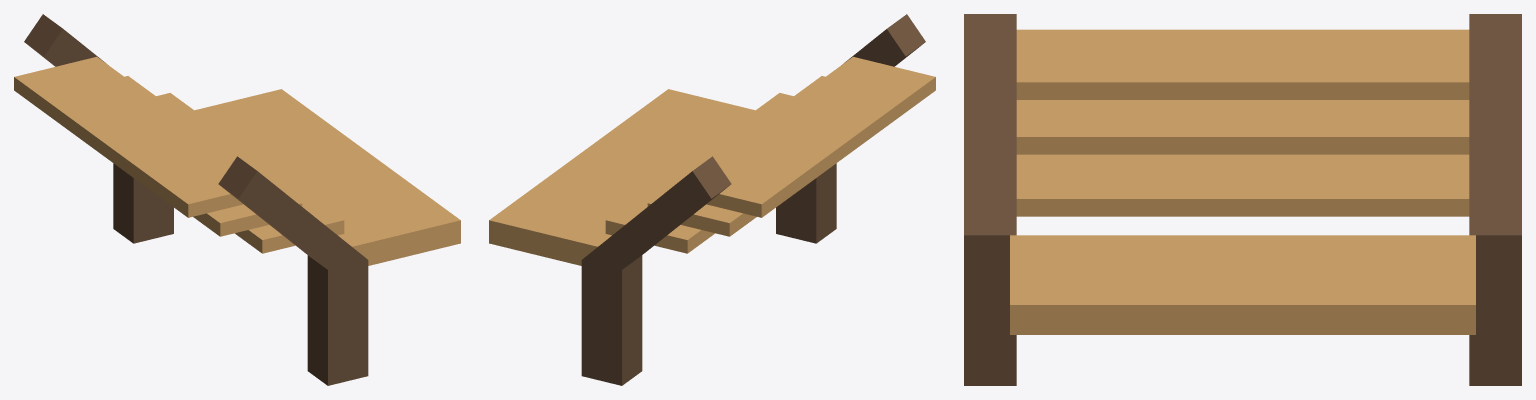
The model's file is Stairs.fbx.
The picture shows the model from 3 angles, left to right: view 1: azimuth 30°, elevation 25°; view 2: azimuth 150°, elevation 25°; view 3: azimuth 270°, elevation 25°; orthographic projection. The views are drawn at different scales.
Visible parts, largest first — view 1: Stair.001; view 2: Stair.001; view 3: Stair.001.
Boxes of the visible parts, <box> form: Stair.001: <box>14,14,460,385</box>; Stair.001: <box>489,14,935,385</box>; Stair.001: <box>964,14,1521,385</box>.
Size of the model in its own units: 122 by 100 by 168.
